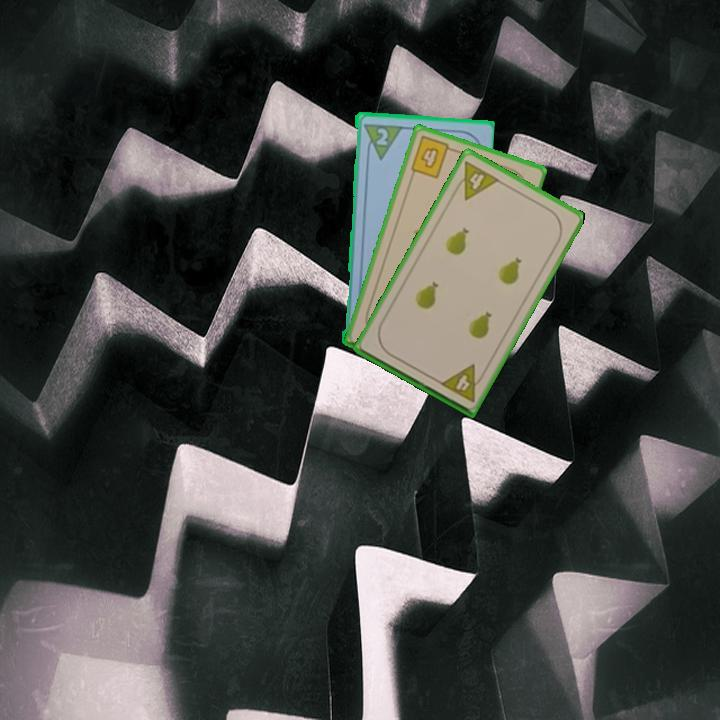2p: (372, 124, 390, 148)
4b: (407, 132, 458, 181)
4p: (449, 157, 502, 203), (436, 361, 488, 405)
